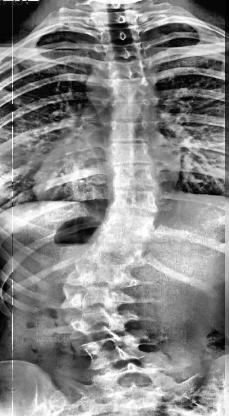Vertebrae: (78, 334, 158, 364), (61, 311, 140, 337), (62, 284, 134, 312), (71, 260, 135, 288), (110, 166, 166, 198), (87, 236, 147, 264), (100, 211, 156, 241), (110, 190, 164, 216), (111, 79, 159, 105), (110, 146, 158, 170), (106, 61, 154, 84), (111, 98, 155, 122), (110, 122, 152, 146), (103, 44, 147, 66), (100, 26, 146, 46)
